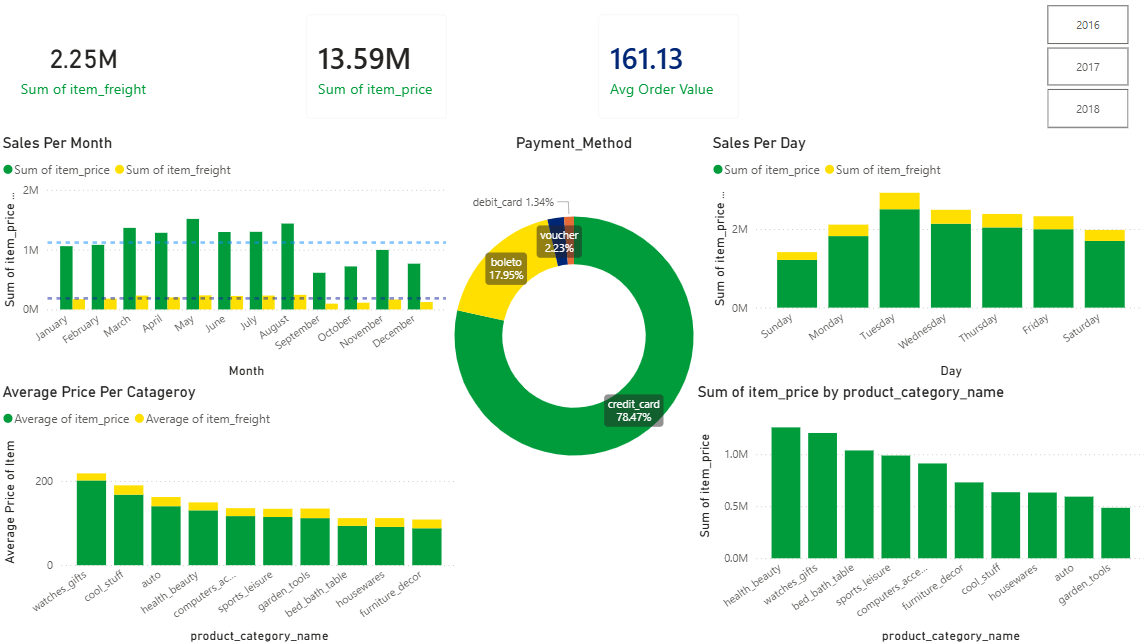

The page's visual inventory and layout, read from the dashboard file:
{"tool":"powerbi","page":{"name":"Sales and Revenue Analysis","canvas":[1280,720],"ordinal":1},"visuals":[{"type":"donutChart","title":"Payment_Method","fields":{"Category":["Gold fact_payments.payment_type"],"Y":["Sum(Gold fact_payments.payment_value)"]},"box":[420,150,440,430],"z":0},{"type":"clusteredColumnChart","title":"Sales Per Month","fields":{"Y":["Sum(Gold fact_order_items.item_price)","Sum(Gold fact_order_items.item_freight)"],"Category":["Gold dim_date.Month Name"]},"box":[0,150,502.5,276.2],"z":1000},{"type":"card","fields":{"Values":["Sum(Gold fact_order_items.item_freight)"]},"box":[0,0,190,150],"z":2000},{"type":"cardVisual","fields":{"Data":["Sum(Gold fact_order_items.item_price)"]},"box":[325,0,190,150],"z":3000},{"type":"columnChart","title":"Average Price Per Catageroy","fields":{"Category":["Gold dim_products.product_category_name"],"Y":["Avg(Gold fact_order_items.item_price)","Avg(Gold fact_order_items.item_freight)"]},"box":[0,426.2,515,293.8],"z":4000},{"type":"columnChart","title":"Sales Per Day","fields":{"Y":["Sum(Gold fact_order_items.item_price)","Sum(Gold fact_order_items.item_freight)"],"Category":["Gold dim_date.Day Name DDDD"]},"box":[788.8,150,492,276.2],"z":5000},{"type":"columnChart","fields":{"Category":["Gold dim_products.product_category_name"],"Y":["Sum(Gold fact_order_items.item_price)"]},"box":[772.5,426.2,507.5,293.8],"z":6000},{"type":"cardVisual","fields":{"Data":["Gold fact_payments.Average Order Value"]},"box":[650,0,190,150],"z":7000},{"type":"slicer","fields":{"Values":["Gold dim_date.year"]},"box":[1140,0,140,150],"z":8000}]}

Visuals, with their boxes in screenshot pixels (x1, y1, x2, y2), scaled from the page's 1280x720 canvas onto the 1147x642 screenshot:
"Payment_Method" donutChart: [x1=376, y1=134, x2=771, y2=517]
"Sales Per Month" clusteredColumnChart: [x1=0, y1=134, x2=450, y2=380]
card - Sum(Gold fact_order_items.item_freight): [x1=0, y1=0, x2=170, y2=134]
cardVisual - Sum(Gold fact_order_items.item_price): [x1=291, y1=0, x2=461, y2=134]
"Average Price Per Catageroy" columnChart: [x1=0, y1=380, x2=461, y2=641]
"Sales Per Day" columnChart: [x1=707, y1=134, x2=1146, y2=380]
columnChart - Gold dim_products.product_category_name x Sum(Gold fact_order_items.item_price): [x1=692, y1=380, x2=1146, y2=641]
cardVisual - Gold fact_payments.Average Order Value: [x1=582, y1=0, x2=753, y2=134]
slicer - Gold dim_date.year: [x1=1022, y1=0, x2=1146, y2=134]
